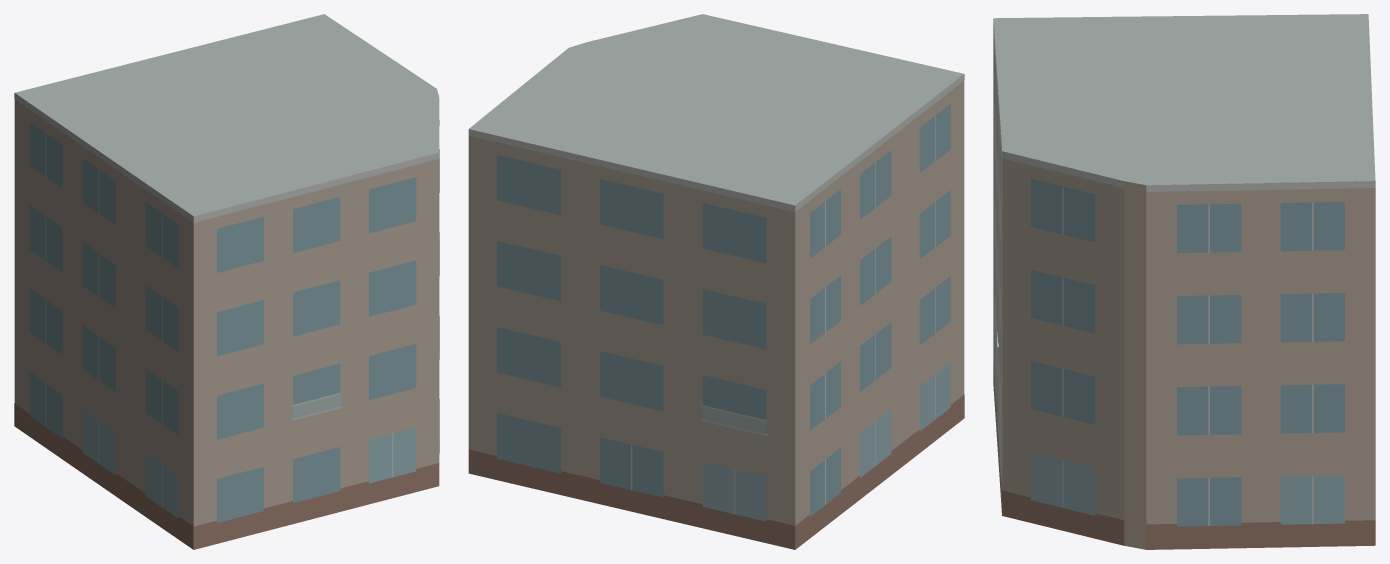
The model's file is survey-upis-32912325.glb.
The picture shows the model from 3 angles, left to right: view 1: azimuth 30°, elevation 25°; view 2: azimuth 150°, elevation 25°; view 3: azimuth 270°, elevation 25°; orthographic projection. The views are drawn at different scales.
Visible parts, largest first — view 1: survey-upis-32912325.tmp; view 2: survey-upis-32912325.tmp; view 3: survey-upis-32912325.tmp.
Part boxes in pixels (x1,y1,x2,y2): survey-upis-32912325.tmp: (14, 14, 439, 549); survey-upis-32912325.tmp: (468, 14, 964, 549); survey-upis-32912325.tmp: (993, 14, 1375, 549).
Size of the model in its own units: 12.9 by 12.8 by 12.17.
